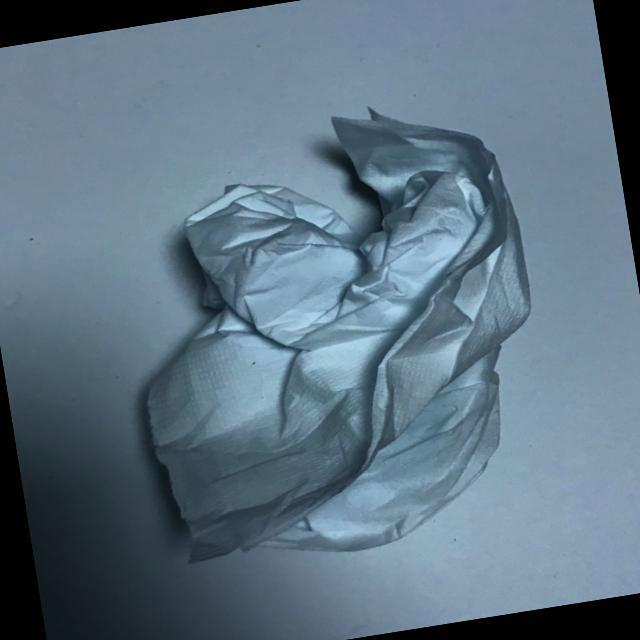paper: (102, 86, 568, 581)
